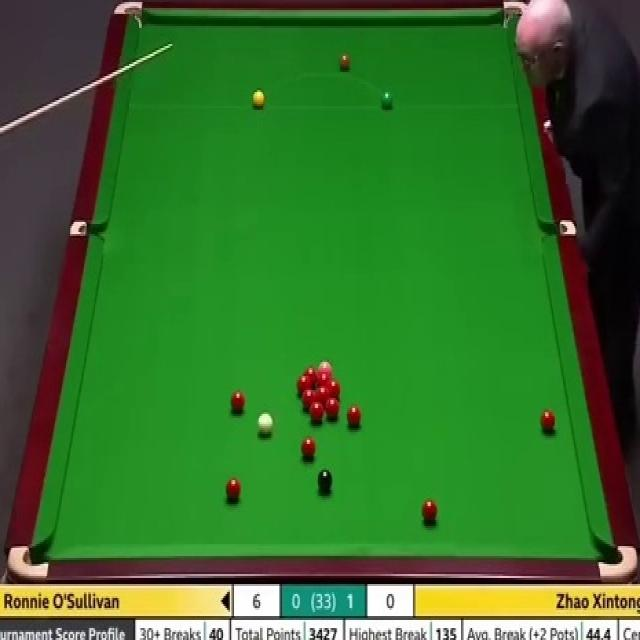pocket: (598, 544, 638, 583), (6, 544, 49, 579), (112, 1, 144, 30), (70, 221, 104, 240), (542, 222, 576, 240), (498, 3, 521, 29)
